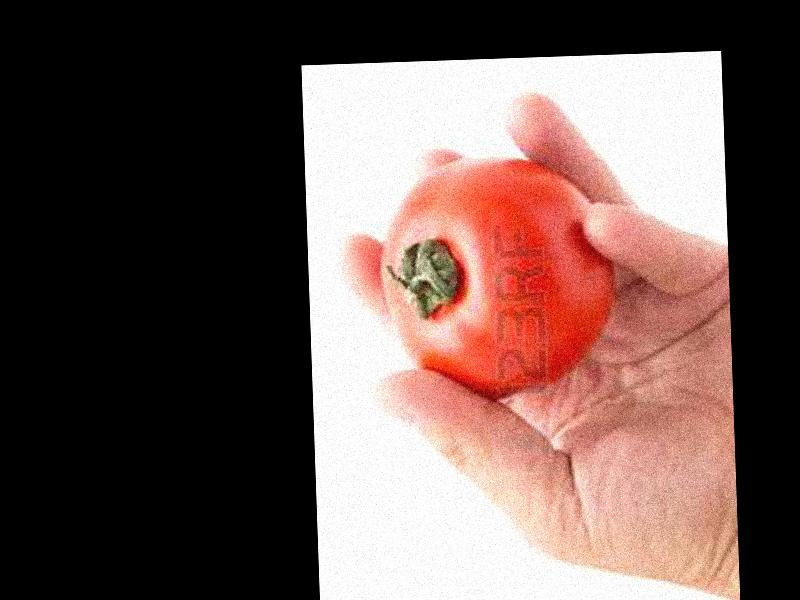Tomato: (377, 152, 617, 400)
